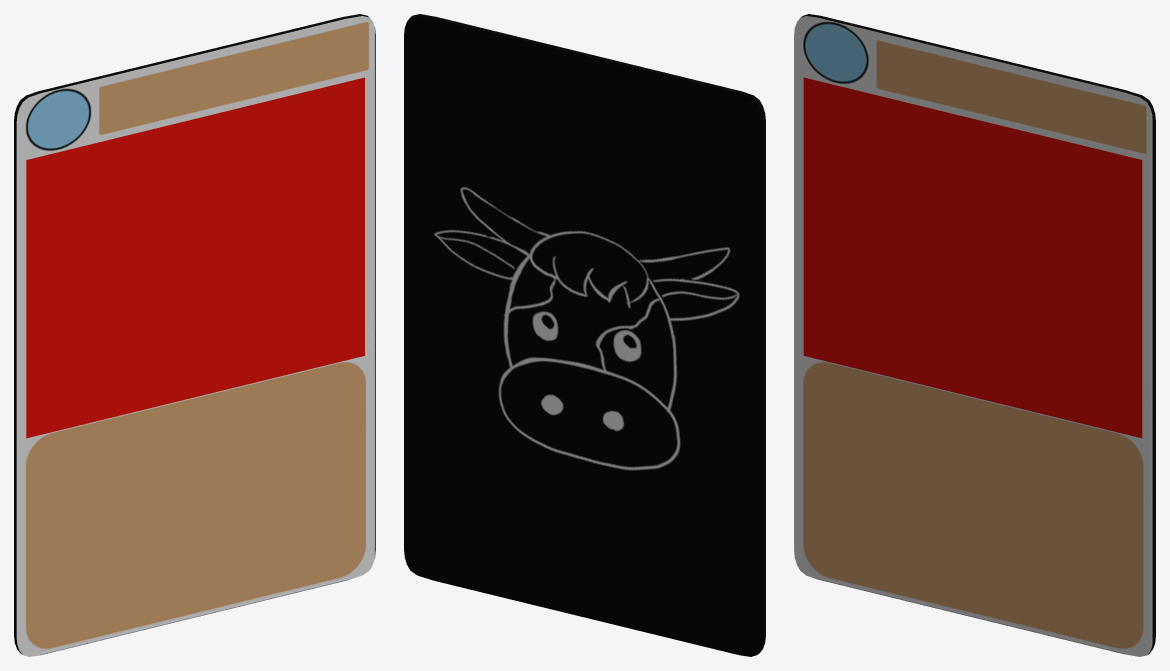
The model's file is Cartas.fbx.
3 renders of one model, left to right at view 1: azimuth 30°, elevation 25°; view 2: azimuth 150°, elevation 25°; view 3: azimuth 330°, elevation 25°, orthographic.
Parts seen in each view (by area): view 1: Cube; view 2: Cube; view 3: Cube.
Boxes of the visible parts, x1=… form: Cube: x1=14, y1=14, x2=375, y2=656; Cube: x1=404, y1=14, x2=765, y2=656; Cube: x1=794, y1=14, x2=1155, y2=656.
Size of the model in its own units: 41.77 by 62.43 by 0.5245.
